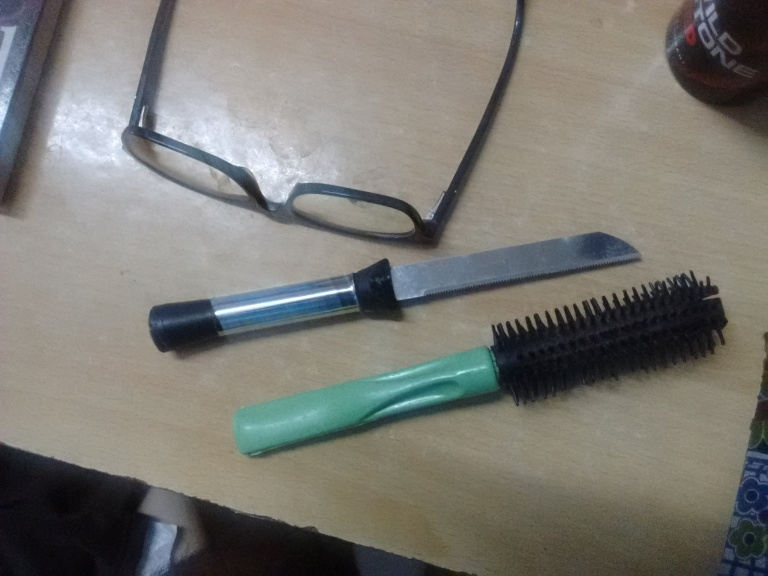knife: (144, 227, 640, 354)
